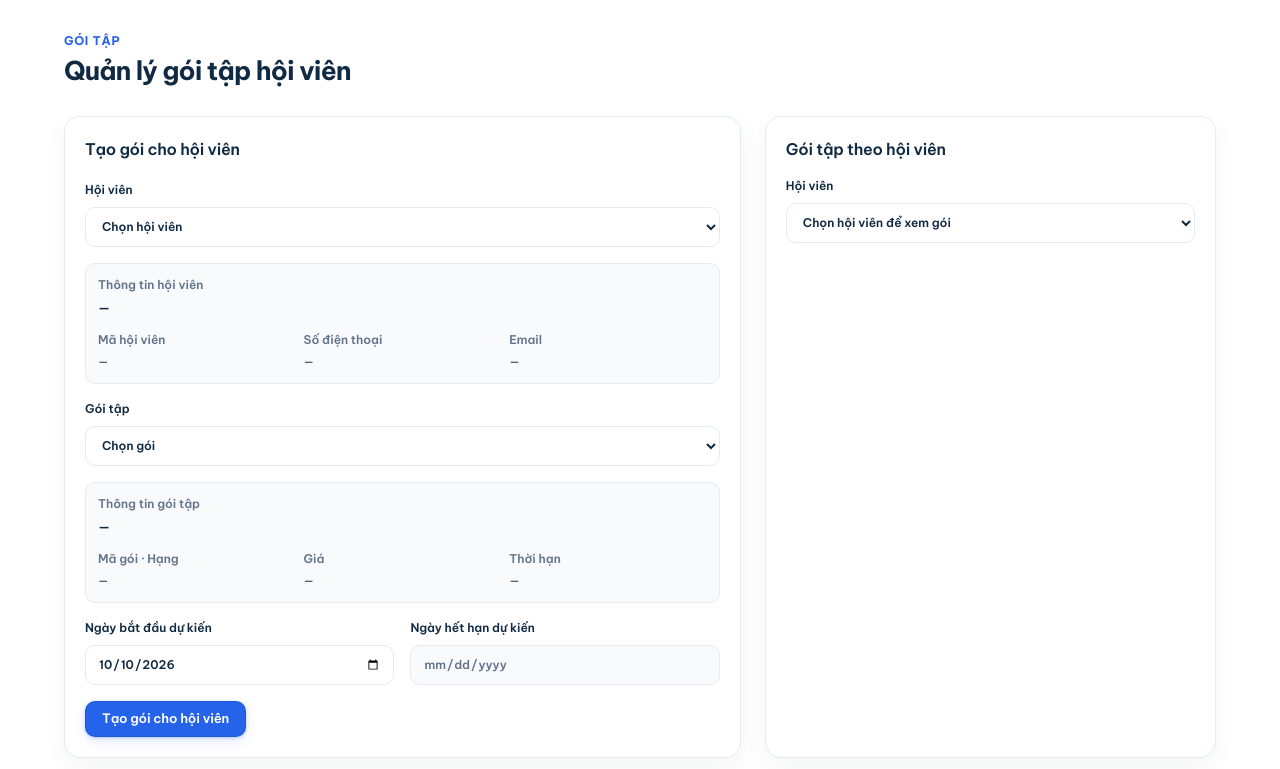
Scenario: MembershipsPage › shows assignment field errors before sending a request
Step 1. Click the button "Tạo gói cho hội viên" → [166, 719], box [85,701,246,737]
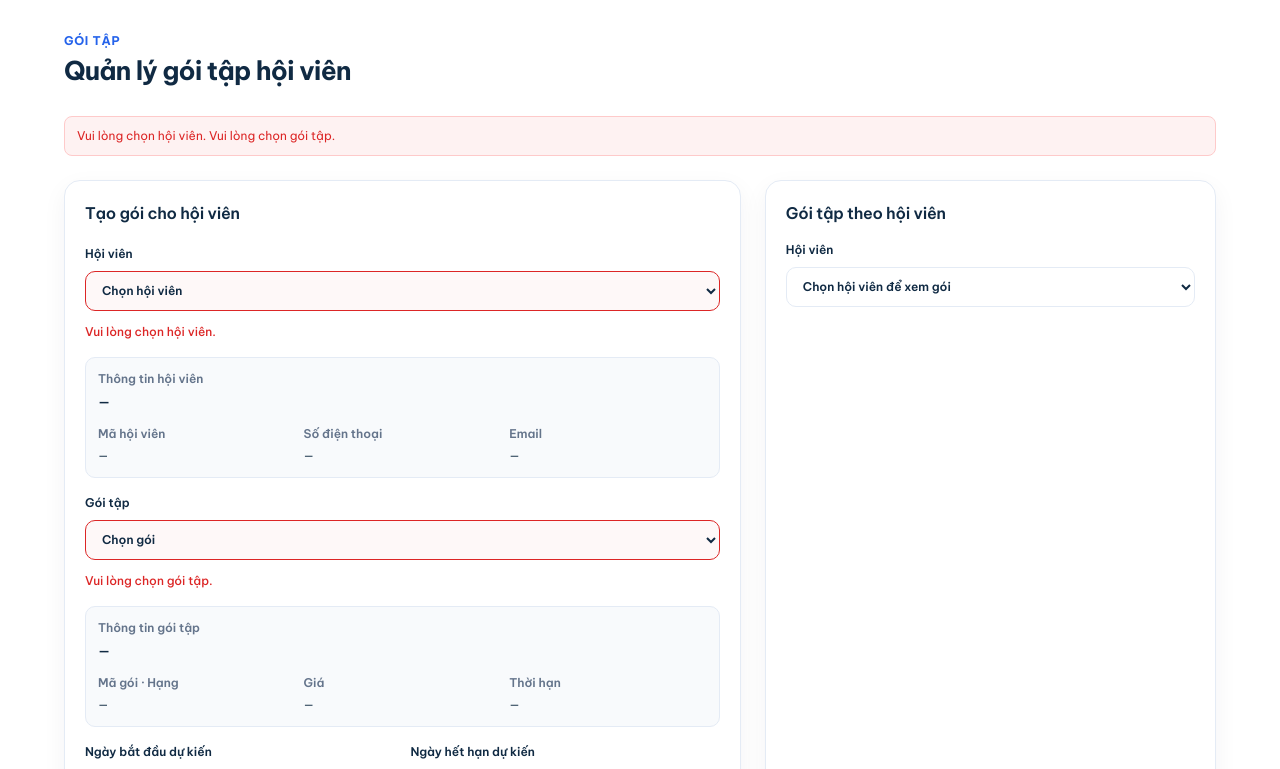
Check: the text "Vui lòng chọn hội viên." is shown, box [85,324,216,339]
Check: the text "Vui lòng chọn gói tập." is shown, box [85,573,213,588]
